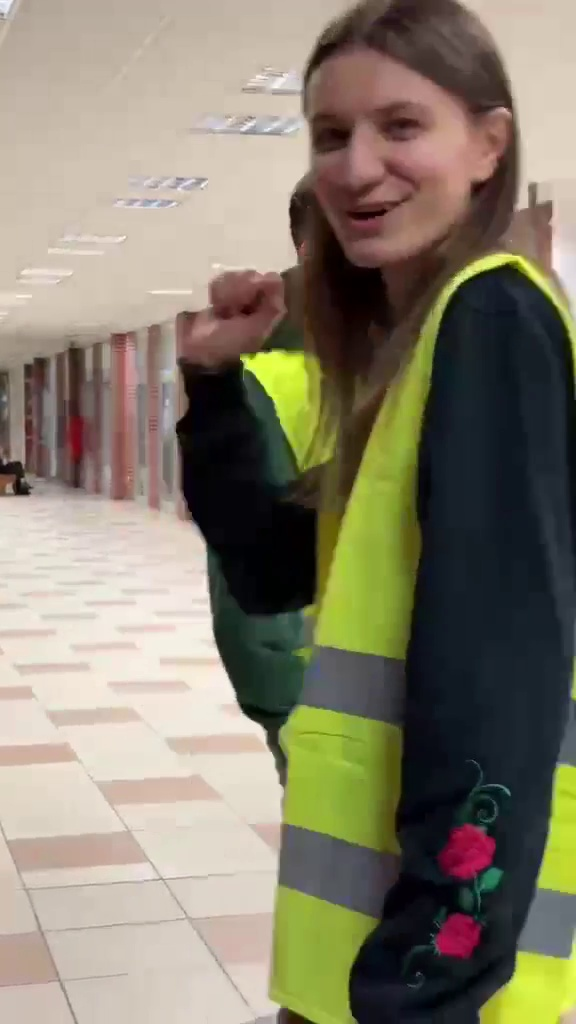vest: (192, 14, 576, 982)
